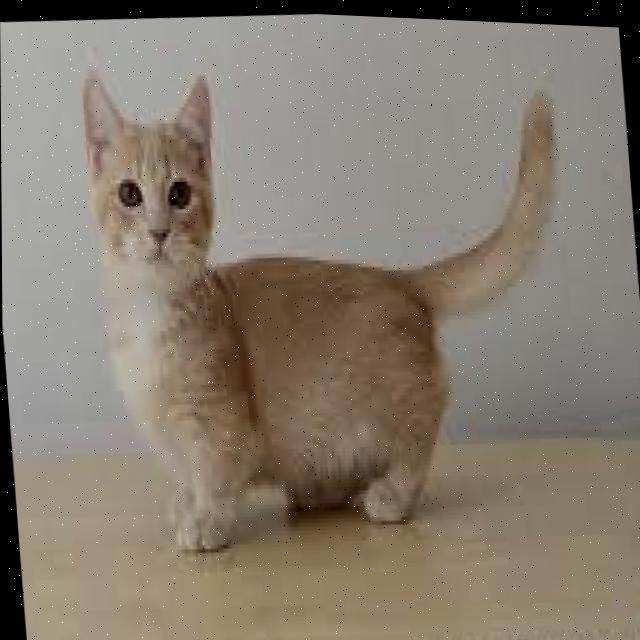Munchkin: (73, 26, 594, 577)
